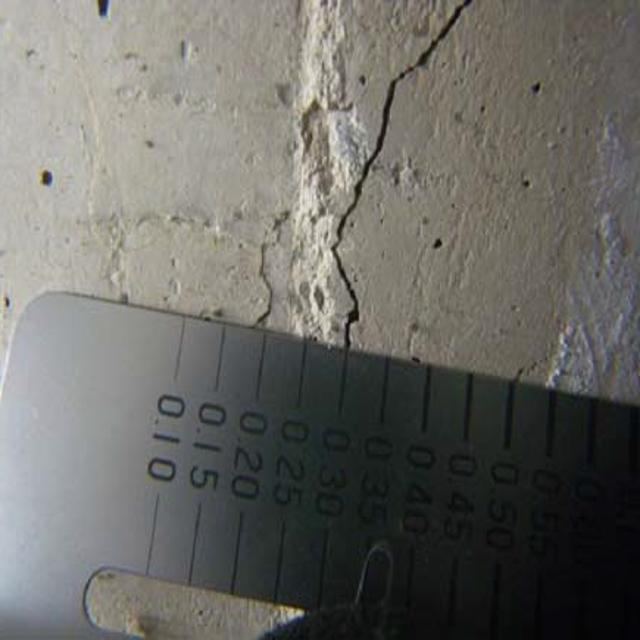crack: (333, 3, 468, 356)
